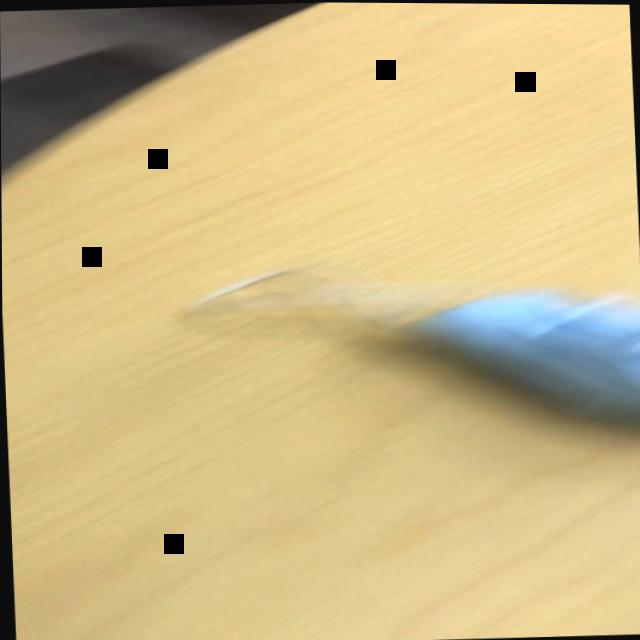NO-Mask: (179, 249, 640, 443)
